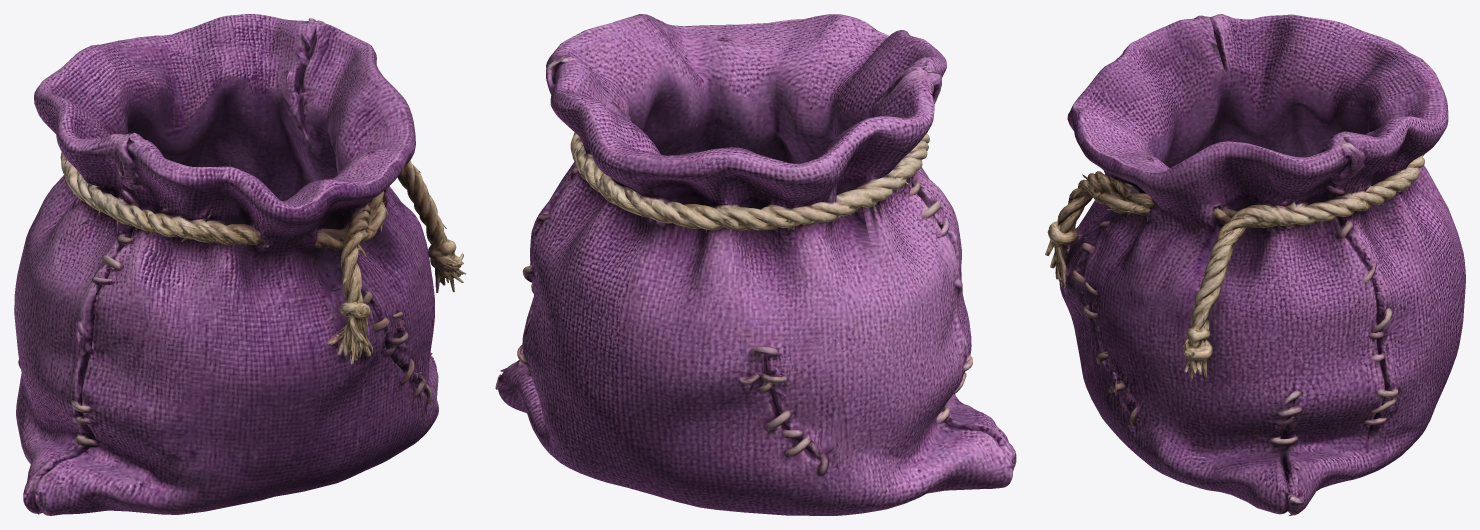
File: sack.glb
The picture shows the model from 3 angles, left to right: view 1: azimuth 30°, elevation 25°; view 2: azimuth 150°, elevation 25°; view 3: azimuth 270°, elevation 25°; orthographic projection. The views are drawn at different scales.
Parts seen in each view (by area): view 1: tripo_node_43b34c91-6e1f-413e-9717-f593c628a5df; view 2: tripo_node_43b34c91-6e1f-413e-9717-f593c628a5df; view 3: tripo_node_43b34c91-6e1f-413e-9717-f593c628a5df.
Part boxes in pixels (bbox=[...]): tripo_node_43b34c91-6e1f-413e-9717-f593c628a5df: bbox=[14, 14, 466, 515]; tripo_node_43b34c91-6e1f-413e-9717-f593c628a5df: bbox=[495, 14, 1016, 515]; tripo_node_43b34c91-6e1f-413e-9717-f593c628a5df: bbox=[1045, 14, 1465, 515].
Bounding box in the file's own units: 0.9806 × 0.7756 × 0.8454.
Materials: 1 (1 with a texture image).
